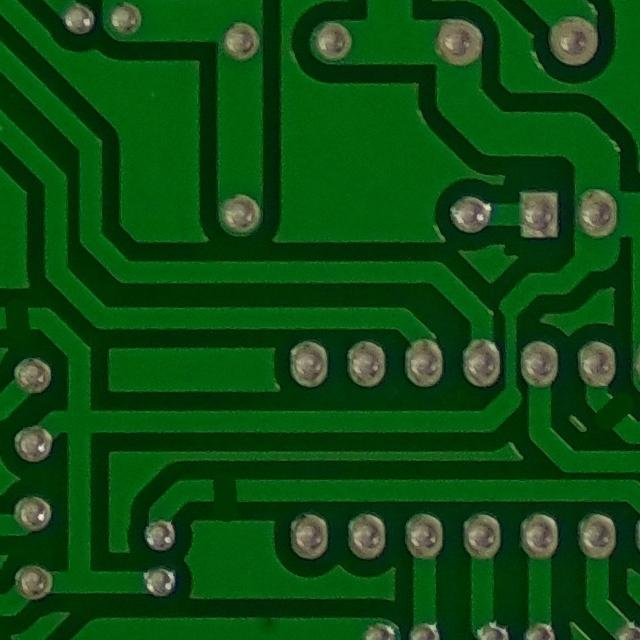open_circuit: (199, 466, 246, 516), (0, 291, 47, 341)
